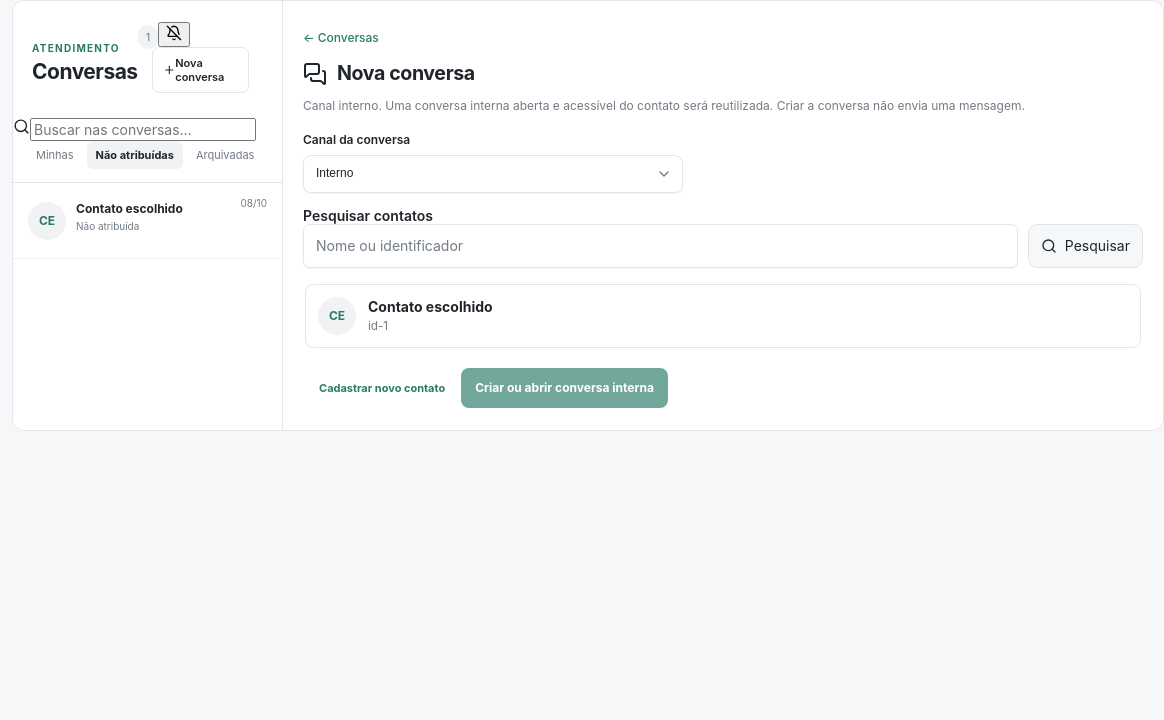
Test: M1 manual internal conversation flow › uses the compact channel selector without changing creation guards or disabled channels
The image size is (1164, 720).
Select "WhatsApp" in the dropdown named "Canal da nova conversa" at (493, 174), box [303, 155, 683, 193]
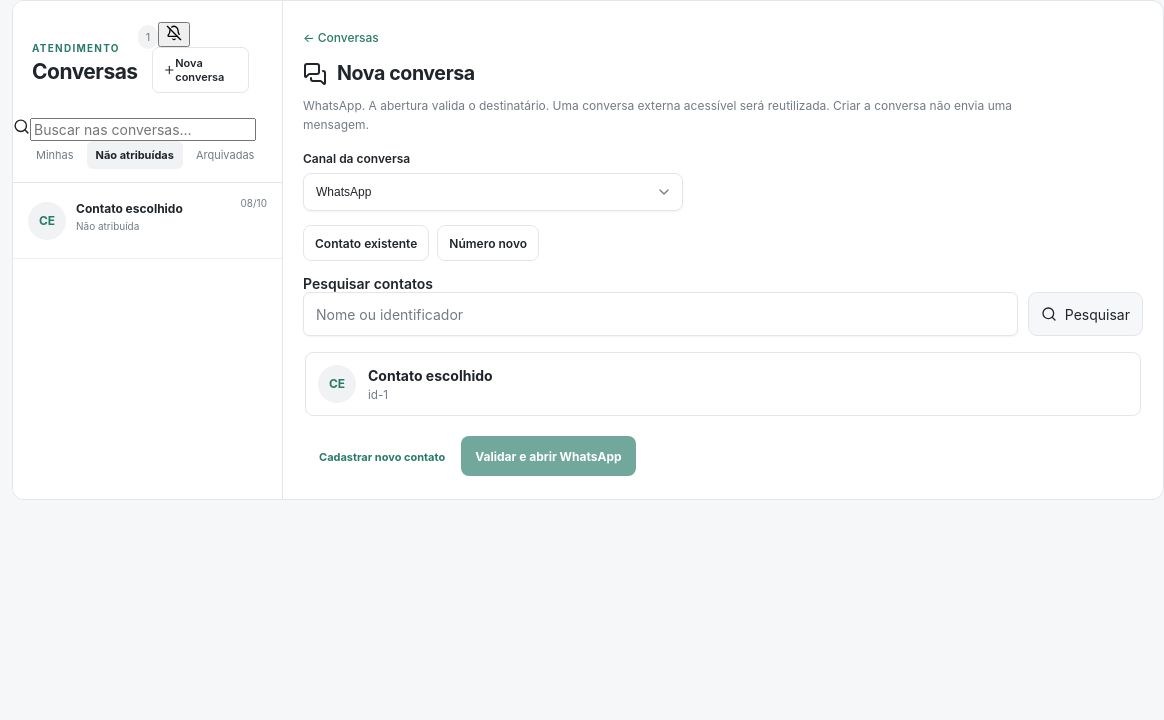
Expected: the text "WhatsApp. A abertura valida o destinatário" is shown, [303, 98, 549, 113]
Select "Interno" in the dropdown named "Canal da nova conversa" at (493, 192), box [303, 173, 683, 211]
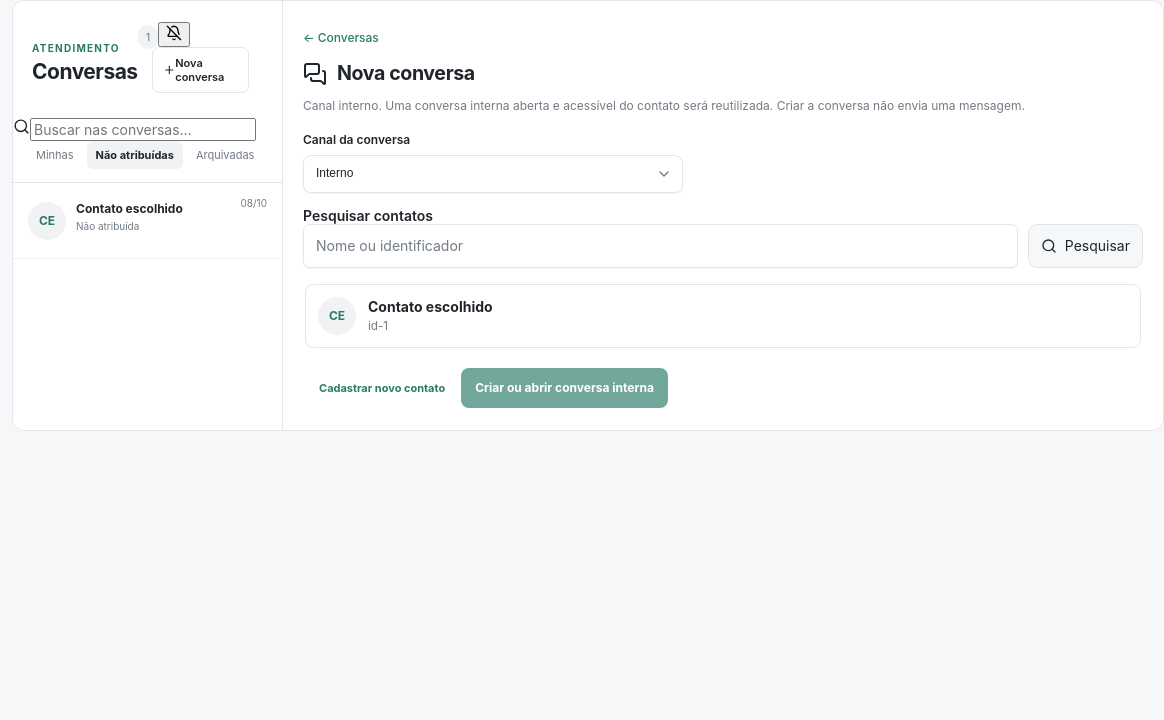
Expected: the text "Canal interno" is shown, [303, 98, 382, 113]
